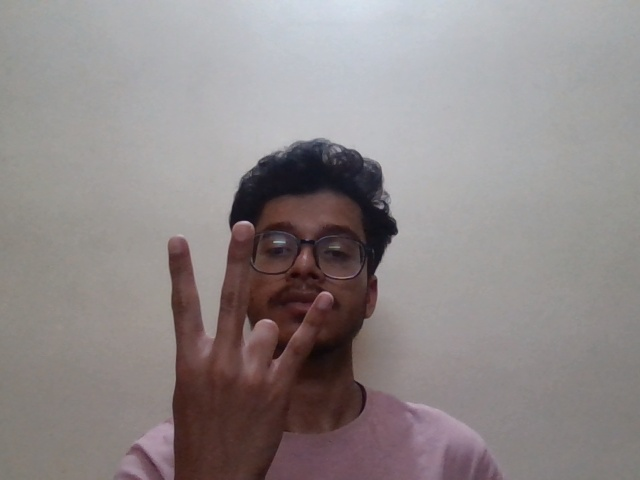why: (154, 216, 354, 393)
